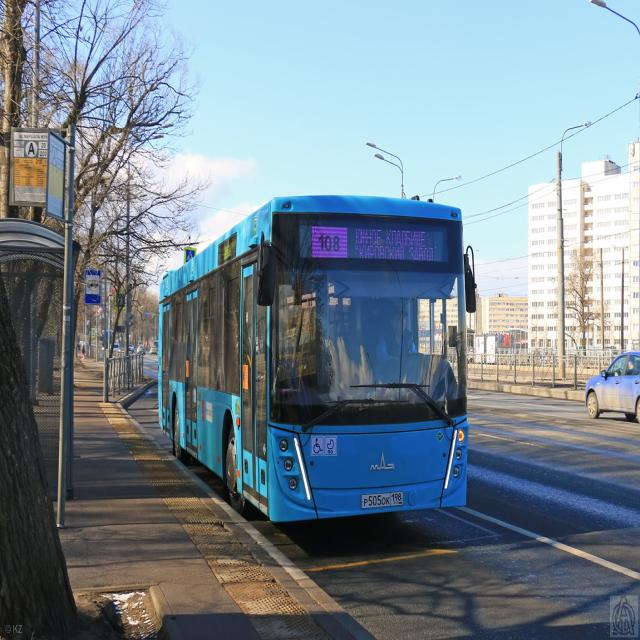number-of-bus: (318, 233, 343, 256)
